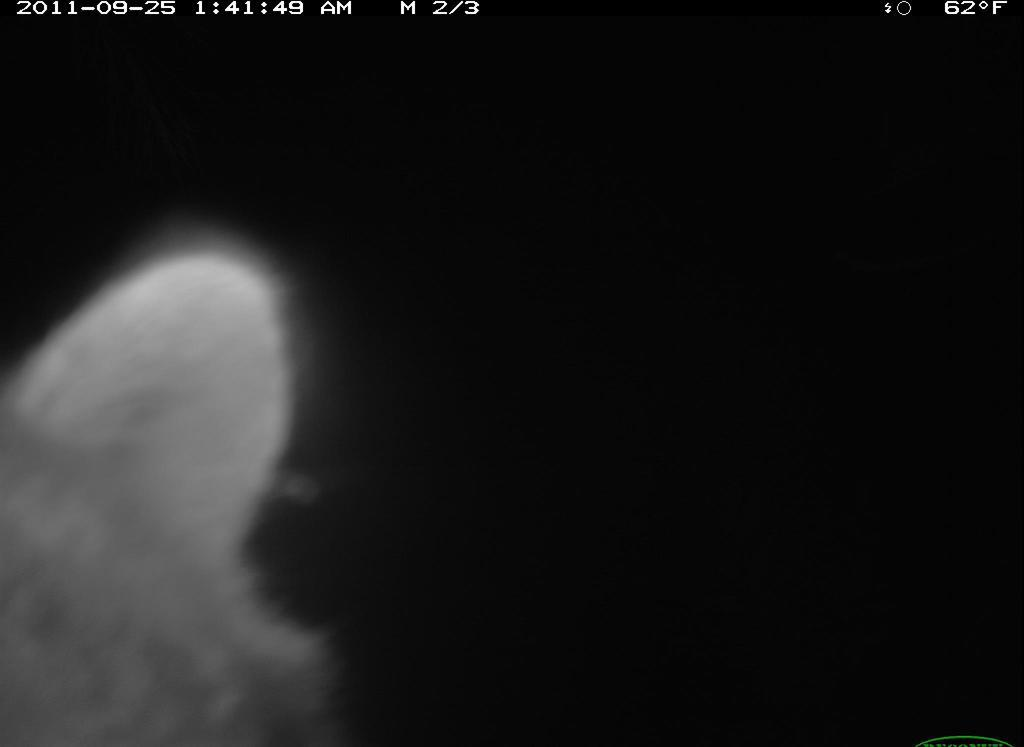raccoon: (4, 199, 377, 747)
